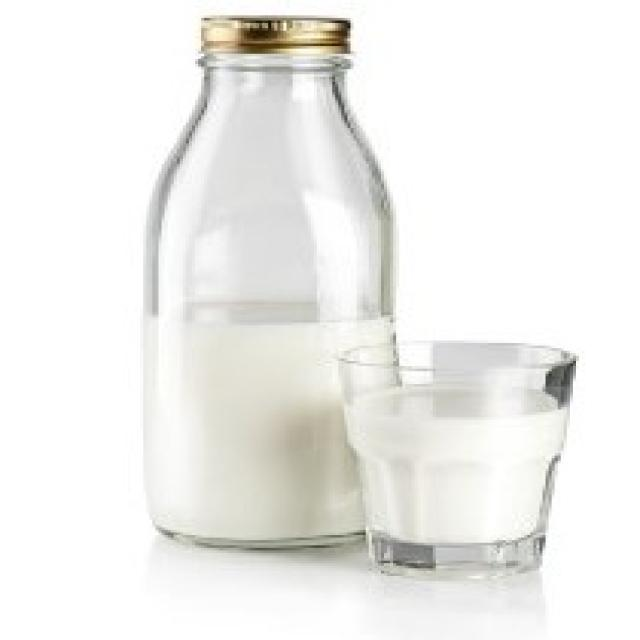electronic: (144, 12, 408, 557), (340, 336, 582, 582)
